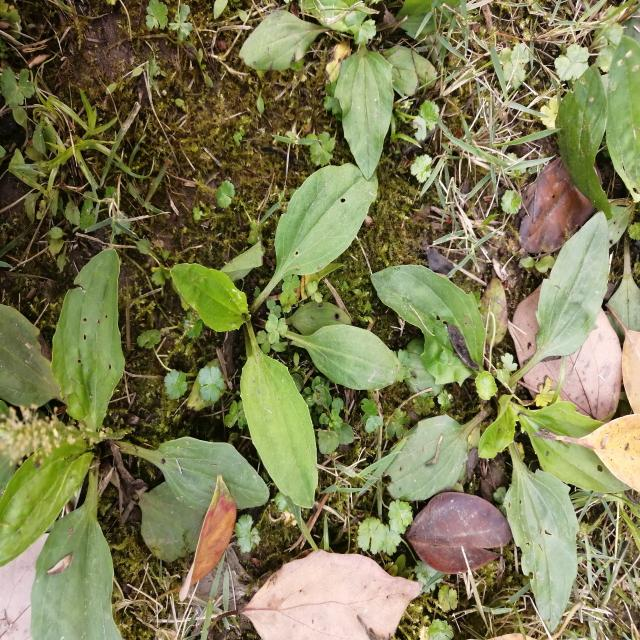plantain: (160, 156, 422, 480), (406, 240, 631, 594)
